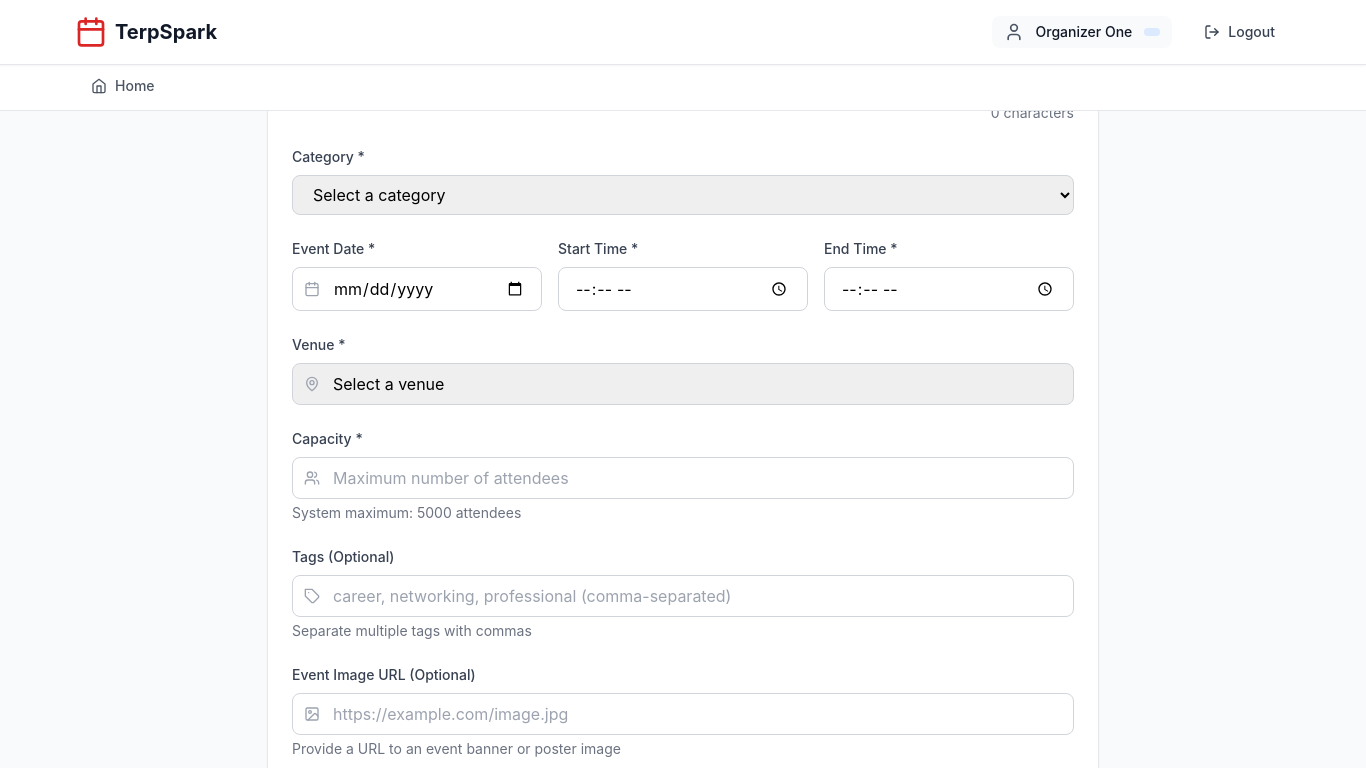
Test: CreateEventPage › updates venue details when a different venue is selected
(page scrolled)
Select "Stamp Student Union - Stamp Student Union (Capacity: 500)" in the dropdown below "Venue *" at {"x": 683, "y": 384}, box 292,363 -> 1074,405
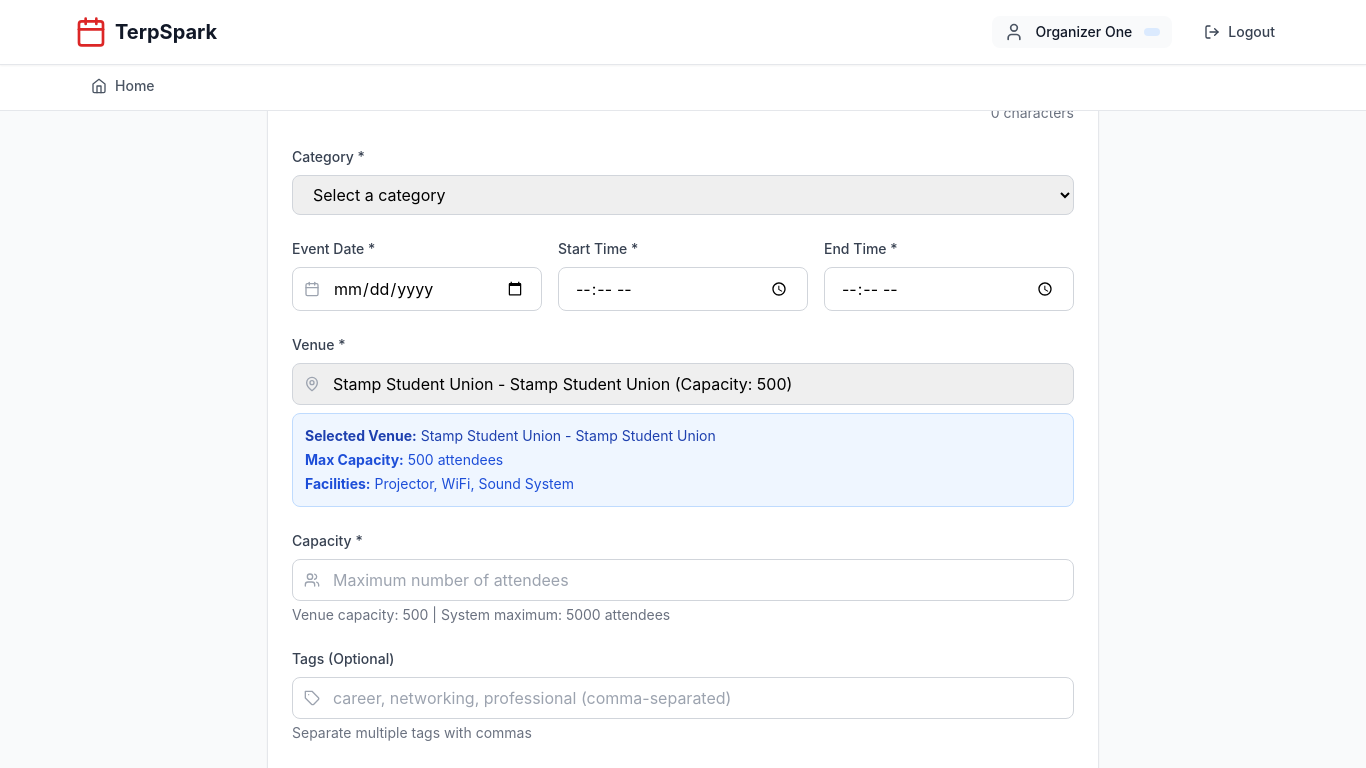
Expected: the text "Selected Venue:" is shown, 305,427 -> 417,444
Expected: the text "Selected Venue: Stamp Student Union - Stamp Student Union" is shown, 305,427 -> 716,444
Select "Iribe Center - Iribe Center for Computer Science (Capacity: 300)" in the dropdown below "Venue *" at {"x": 683, "y": 384}, box 292,363 -> 1074,405
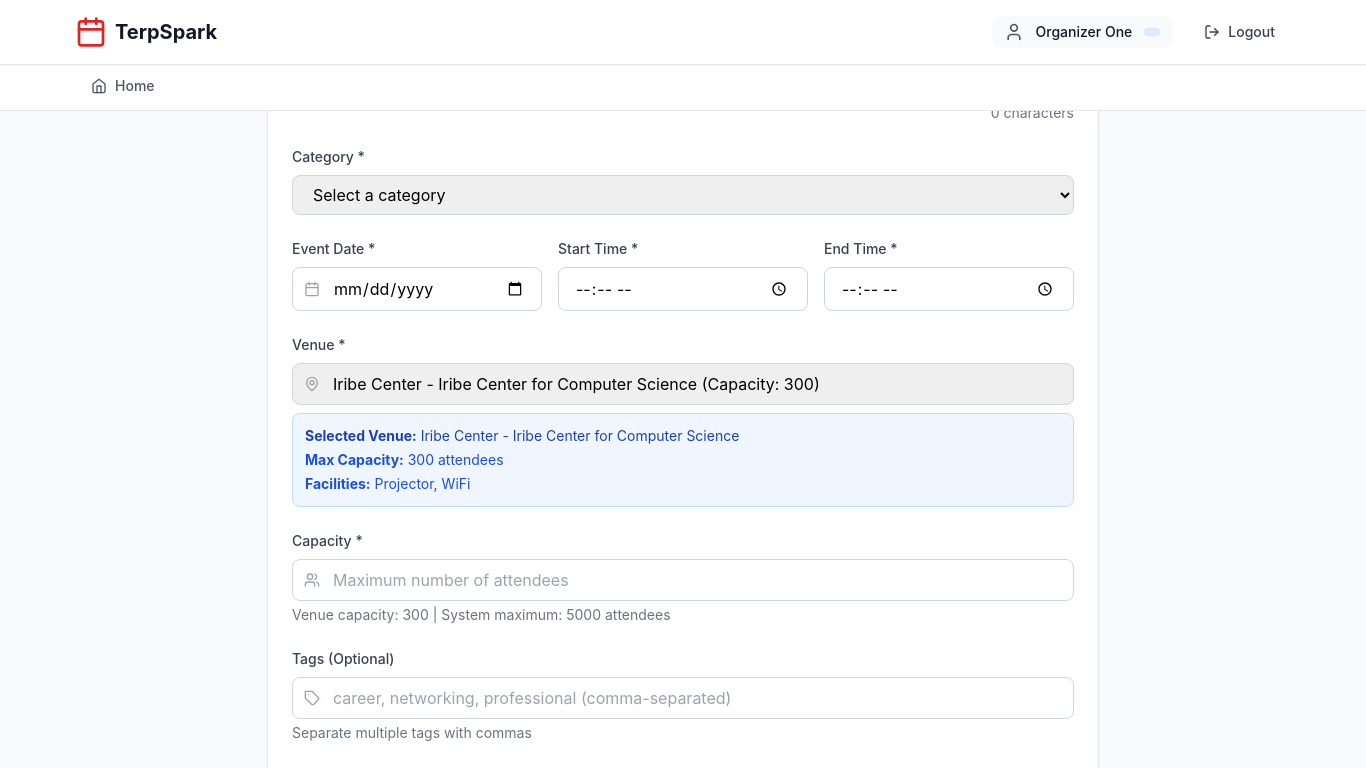
Expected: the text "Iribe Center" is shown, 421,427 -> 498,444
Expected: the text "Max Capacity: 300 attendees" is shown, 305,451 -> 504,468
